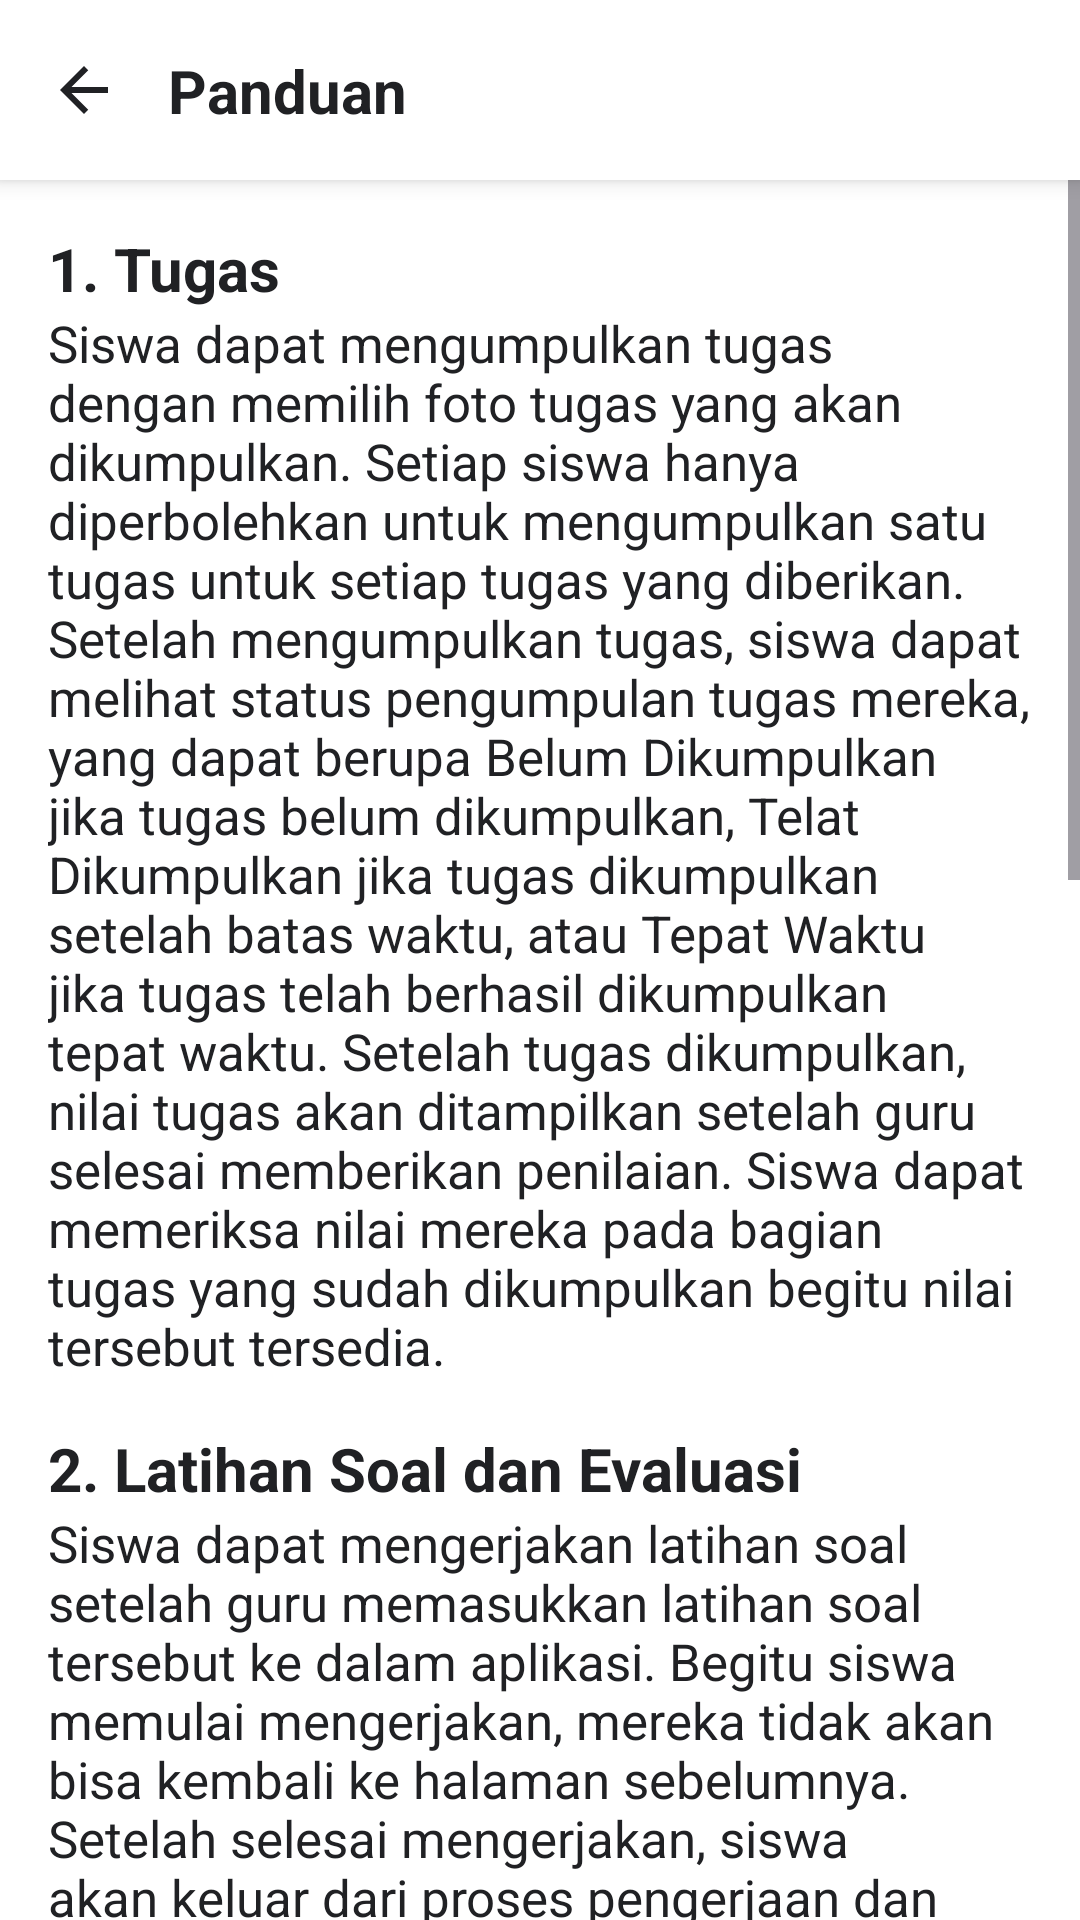

Icons on this 1080x1920 Android screen, each with its box as (x1, y1, x2, y2):
kembali: (60, 66, 108, 114)
